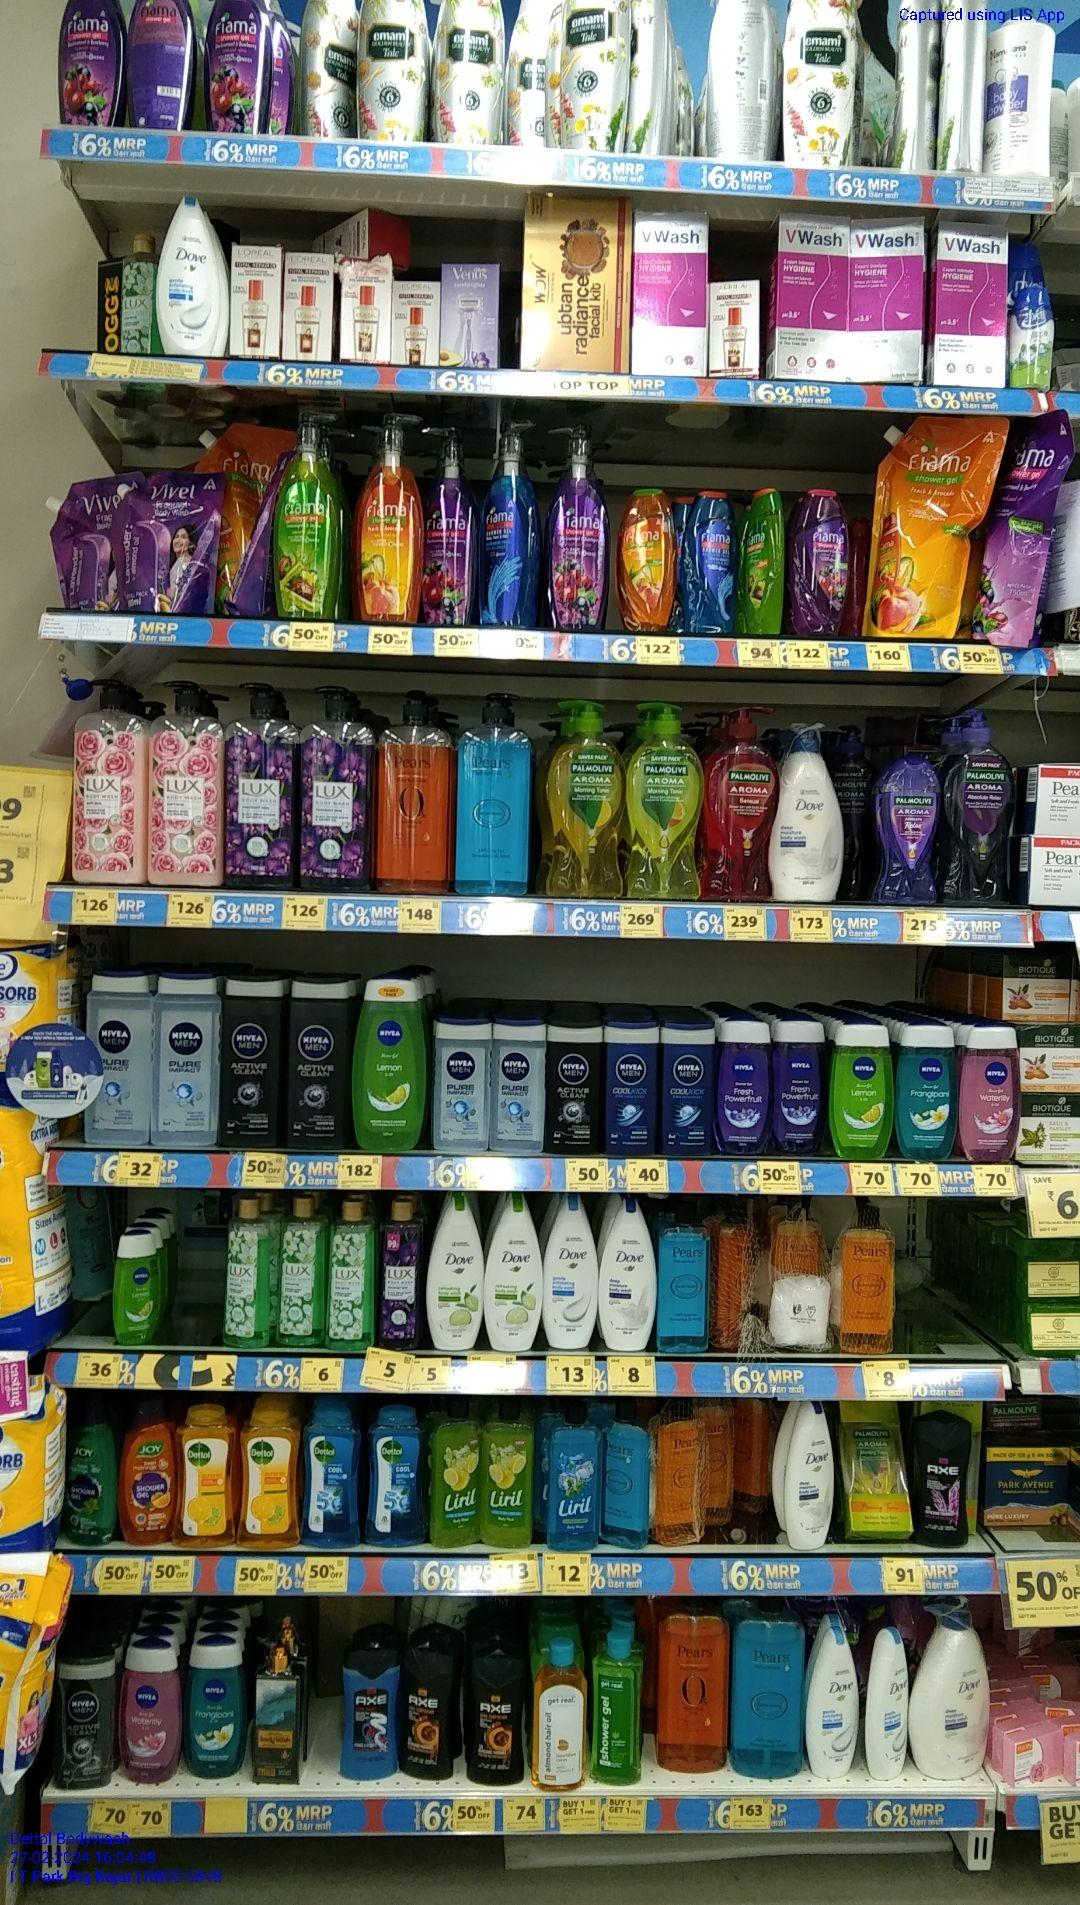Dettol_Bodywash_Cool: (304, 1405, 361, 1550), (368, 1404, 425, 1549)
Dettol_Bodywash_Refresh: (243, 1400, 298, 1553), (177, 1407, 234, 1549)
Dove_Deep_Moisture_Body_Wash_250ML: (601, 1196, 653, 1352), (795, 1399, 834, 1550)
Dove_Gentle_Exfoliating_Body_Wash_250ML: (160, 196, 224, 356), (542, 1193, 598, 1352), (813, 1628, 857, 1779), (869, 1630, 909, 1782)
Dove_Refreshing_Body_Wash_250ML: (486, 1193, 539, 1353), (431, 1193, 484, 1349)
Fiama_Shower_Gel_Lemongrass_and_Jojoba_250ML: (744, 488, 785, 637)
Fiama_Shower_Gel_Peach_and_Avocado_250ML: (621, 488, 675, 636)
Joy_Shower_Gel_Mandarin_and_Lemongrass_250ML: (123, 1399, 174, 1545)
Joy_Shower_Gel_Mint_and_Eucalyptus_250ML: (65, 1400, 114, 1545)
Liril_Cooling_Mint_Body_Wash_250ML: (550, 1404, 600, 1553)
Liril_Lime_and_Tea_Tree_Oil_Body_Wash_250ML: (436, 1400, 482, 1552), (486, 1399, 531, 1550)
Lux_Black_Orchid_Scent_and_Juniper_Oil_Body_Wash_245ML: (378, 1198, 424, 1354)
Lux_Body_Wash_Skin_Detox_Freesia_Scent_and_Alove_Vera_245ML: (329, 1198, 373, 1354), (224, 1198, 267, 1348), (283, 1200, 323, 1350), (119, 234, 154, 352)
Nivea_Shower_Gel_Frangipani_and_Oil_250ML: (187, 1639, 246, 1782), (897, 1019, 954, 1162)
Nivea_Shower_Gel_Fresh_Powerfruit_250ML: (716, 1017, 772, 1157), (775, 1018, 826, 1157)
Nivea_Shower_Gel_Lemon_and_Oil_250ML: (353, 973, 423, 1151), (831, 1019, 891, 1162), (117, 1235, 165, 1345)
Nivea_Shower_Gel_Waterlily_and_Oil_250ML: (120, 1634, 177, 1785), (966, 1023, 1021, 1164)
Palmolive_Aroma_Relax_250ML: (881, 755, 940, 907)
Pears_Pure_Glycerin_and_Mint_Extracts_Body_Wash_250ML: (658, 1204, 712, 1354), (603, 1400, 651, 1550)
